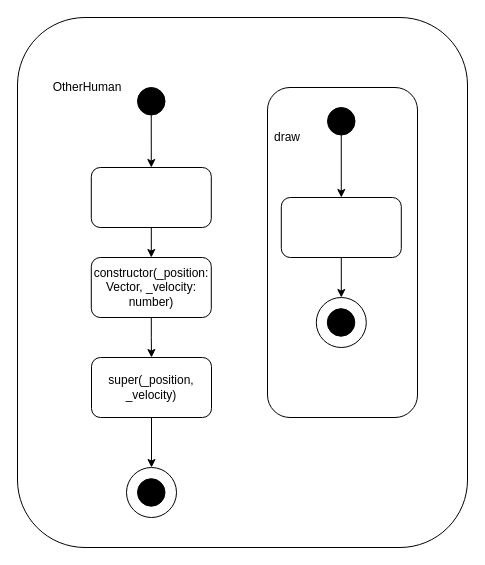
Image size: 485x565. Some labels were removed from this diagram. Each missing label, with the centre of its shape:
"export class OtherHuman extends Movable" belongs at (150,197).
"grauer Kreis mit schwarzen Rand durch canvas gemalt" belongs at (340,227).
